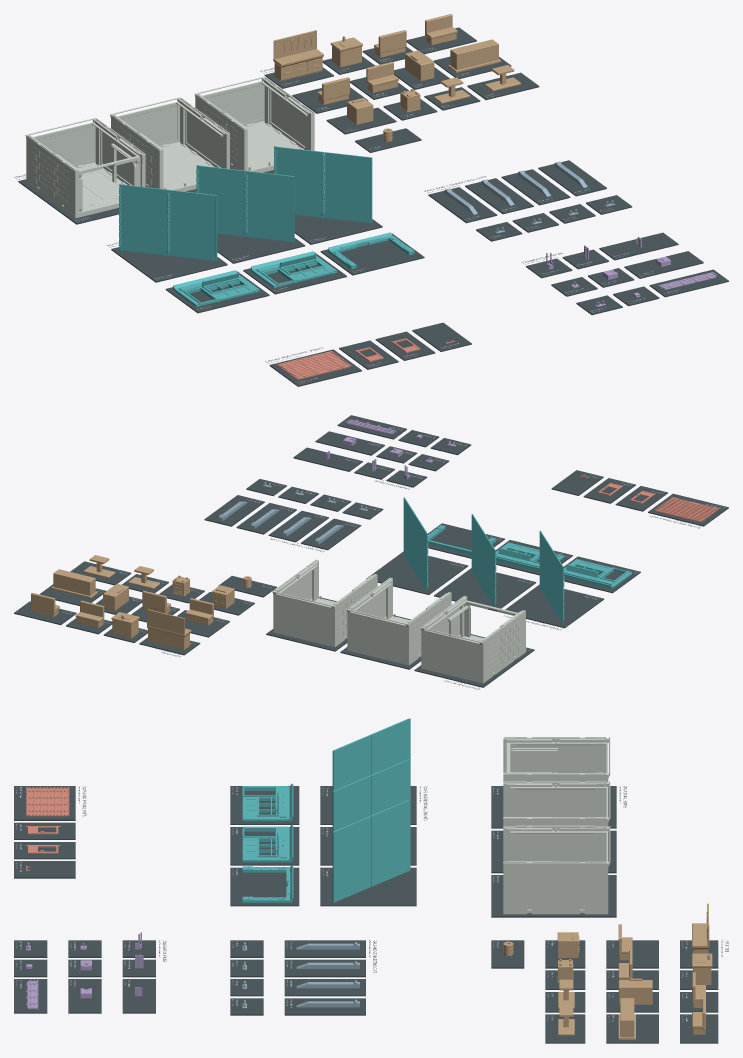
Rendered from print-layout.glb.
3 renders of one model, top to bottom at view 1: azimuth 30°, elevation 25°; view 2: azimuth 150°, elevation 25°; view 3: azimuth 270°, elevation 25°, orthographic. The views are drawn at different scales.
Visible parts, largest first — view 1: 01 - Garage_Structural_Module, 03 - Dining_Structural_Module, 02 - Kitchen_Structural_Module, 05 - Kitchen_Roof_Print_In_Place, 06 - Dining_Roof_Print_In_Place, 04 - Garage_Roof_Print_In_Place, 14 - Workshop_bench, Display tile 05, Display tile 07, 08 - Kitchen_shop_removable_front, 09 - Dining_removable_storefront, Display tile 06 (+30 smaller); view 2: 01 - Garage_Structural_Module, 03 - Dining_Structural_Module, 02 - Kitchen_Structural_Module, Display tile 05, Display tile 06, Display tile 04, 05 - Kitchen_Roof_Print_In_Place, 06 - Dining_Roof_Print_In_Place, 04 - Garage_Roof_Print_In_Place, 14 - Workshop_bench, 08 - Kitchen_shop_removable_front, Display tile 07 (+28 smaller); view 3: 03 - Dining_Structural_Module, 06 - Dining_Roof_Print_In_Place, 02 - Kitchen_Structural_Module, 01 - Garage_Structural_Module, 04 - Garage_Roof_Print_In_Place, 05 - Kitchen_Roof_Print_In_Place, Display tile 06, Display tile 07, 09 - Dining_removable_storefront, 08 - Kitchen_shop_removable_front, Display tile 03, 10 - Garage_Door_Print_In_Place (+45 smaller).
Part boxes in pixels (left/top/right/bottom): 01 - Garage_Structural_Module: left=25, top=117, right=145, bottom=218; 03 - Dining_Structural_Module: left=194, top=76, right=314, bottom=172; 02 - Kitchen_Structural_Module: left=110, top=97, right=229, bottom=191; 05 - Kitchen_Roof_Print_In_Place: left=119, top=184, right=217, bottom=261; 06 - Dining_Roof_Print_In_Place: left=274, top=146, right=372, bottom=223; 04 - Garage_Roof_Print_In_Place: left=196, top=165, right=294, bottom=242; 14 - Workshop_bench: left=273, top=30, right=323, bottom=81; Display tile 05: left=111, top=247, right=227, bottom=282; Display tile 07: left=320, top=233, right=424, bottom=275; 08 - Kitchen_shop_removable_front: left=173, top=270, right=259, bottom=306; 09 - Dining_removable_storefront: left=251, top=251, right=336, bottom=287; Display tile 06: left=294, top=199, right=382, bottom=244; 01 - Garage_Structural_Module: left=420, top=595, right=525, bottom=683; 03 - Dining_Structural_Module: left=272, top=559, right=377, bottom=647; 02 - Kitchen_Structural_Module: left=346, top=577, right=451, bottom=665; Display tile 05: left=505, top=584, right=604, bottom=628; Display tile 06: left=366, top=551, right=468, bottom=594; Display tile 04: left=434, top=568, right=536, bottom=611; 05 - Kitchen_Roof_Print_In_Place: left=539, top=530, right=564, bottom=623; 06 - Dining_Roof_Print_In_Place: left=403, top=497, right=428, bottom=590; 04 - Garage_Roof_Print_In_Place: left=471, top=514, right=496, bottom=606; 14 - Workshop_bench: left=147, top=609, right=191, bottom=649; 08 - Kitchen_shop_removable_front: left=563, top=559, right=631, bottom=589; Display tile 07: left=427, top=523, right=504, bottom=558; 03 - Dining_Structural_Module: left=503, top=826, right=610, bottom=914; 06 - Dining_Roof_Print_In_Place: left=332, top=799, right=410, bottom=902; 02 - Kitchen_Structural_Module: left=503, top=781, right=610, bottom=826; 01 - Garage_Structural_Module: left=503, top=737, right=610, bottom=782; 04 - Garage_Roof_Print_In_Place: left=332, top=759, right=410, bottom=831; 05 - Kitchen_Roof_Print_In_Place: left=332, top=718, right=410, bottom=790; Display tile 06: left=320, top=867, right=416, bottom=906; Display tile 07: left=230, top=867, right=299, bottom=906; 09 - Dining_removable_storefront: left=242, top=824, right=293, bottom=862; 08 - Kitchen_shop_removable_front: left=242, top=783, right=293, bottom=821; Display tile 03: left=491, top=875, right=616, bottom=917; 10 - Garage_Door_Print_In_Place: left=26, top=786, right=69, bottom=816.
Bounding box in the file's own units: 1.39 × 0.181 × 1.63.
